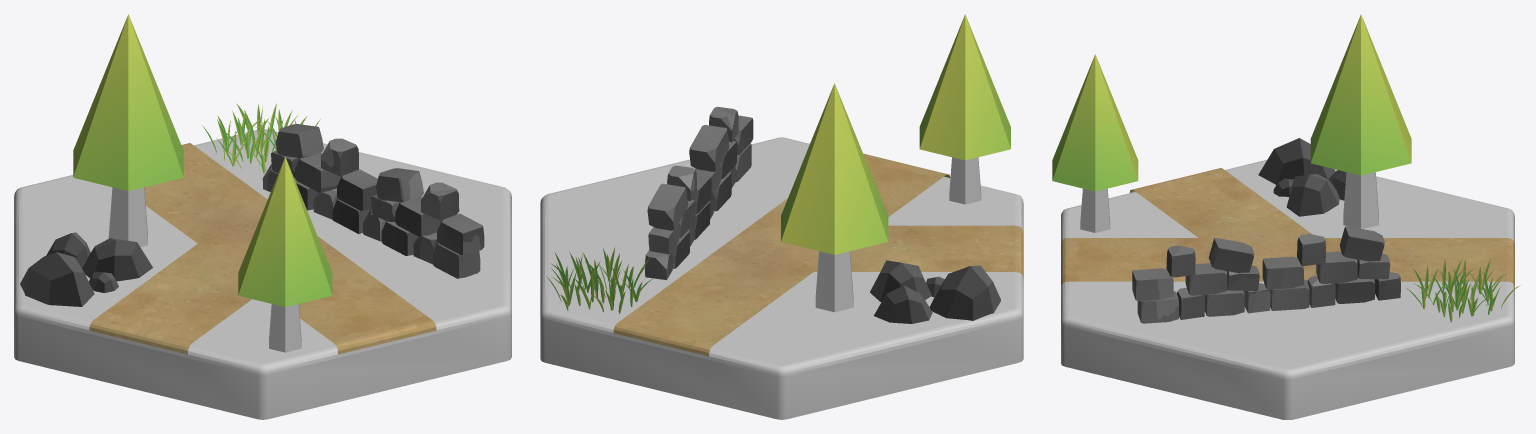
The model's file is Road_TutType4.fbx.
3 renders of one model, left to right at view 1: azimuth 30°, elevation 25°; view 2: azimuth 150°, elevation 25°; view 3: azimuth 270°, elevation 25°, orthographic. The views are drawn at different scales.
Parts seen in each view (by area): view 1: Object009; view 2: Object009; view 3: Object009.
Boxes of the visible parts, x1,y1,x2,y2 form: Object009: [14, 14, 511, 419]; Object009: [540, 14, 1023, 419]; Object009: [1052, 14, 1520, 419].
Size of the model in its own units: 99.25 by 53.53 by 89.51.
